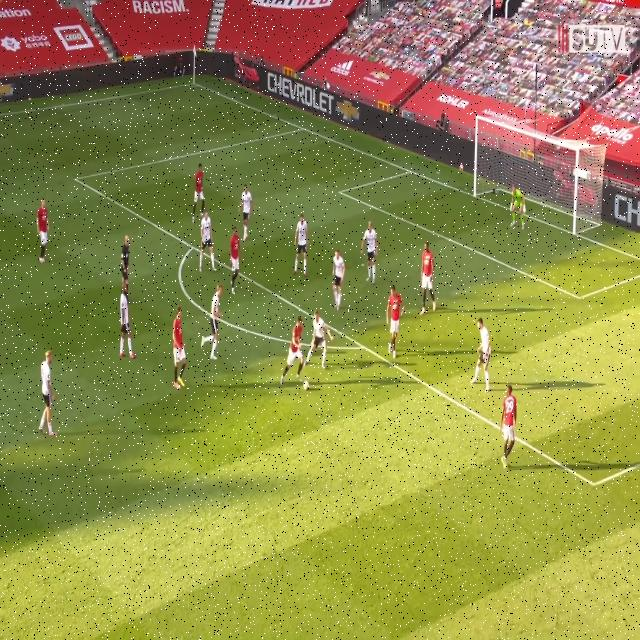Ball: (302, 377, 312, 392)
GoalKeeper: (502, 181, 527, 231)
TEAM 1: (168, 302, 194, 392), (383, 282, 406, 360), (500, 381, 519, 472), (282, 313, 304, 387), (420, 241, 438, 317), (226, 224, 241, 296), (190, 159, 207, 218), (38, 194, 51, 264)
TEAM 2: (201, 280, 226, 370), (470, 316, 496, 397), (116, 284, 138, 364), (309, 307, 336, 368), (40, 346, 58, 436), (289, 216, 313, 278), (363, 220, 383, 290), (238, 184, 256, 245), (330, 249, 346, 315), (200, 214, 219, 268)
